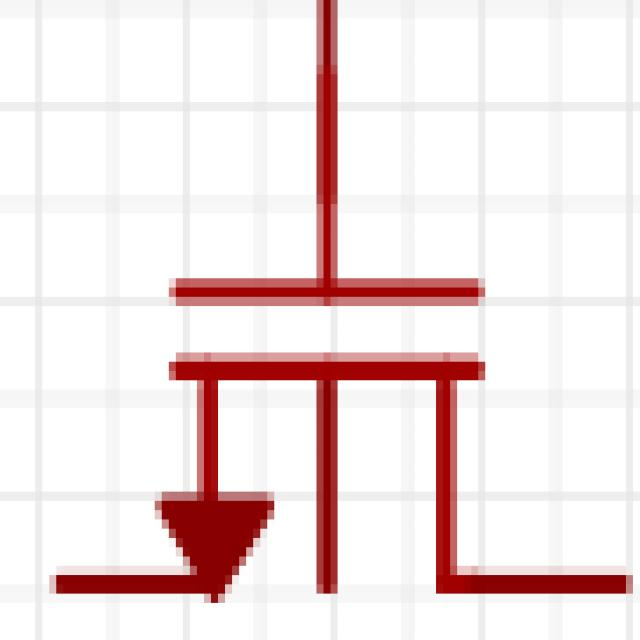nmos: (52, 32, 626, 635)
